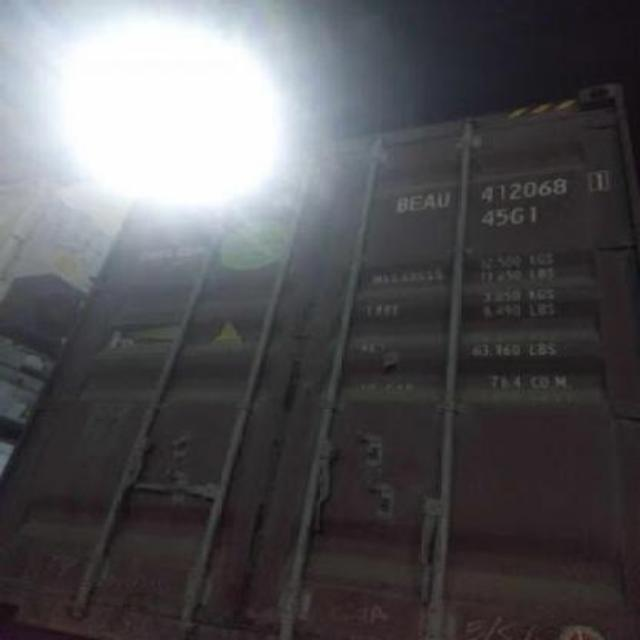0: (524, 182, 538, 196)
1: (592, 172, 604, 192), (496, 182, 508, 200)
2: (508, 183, 522, 201)
4: (481, 185, 494, 201)
6: (540, 180, 552, 196)
8: (550, 176, 566, 194)
A: (426, 192, 436, 212)
B: (394, 193, 410, 214)
E: (408, 192, 424, 214)
U: (436, 191, 452, 209)
